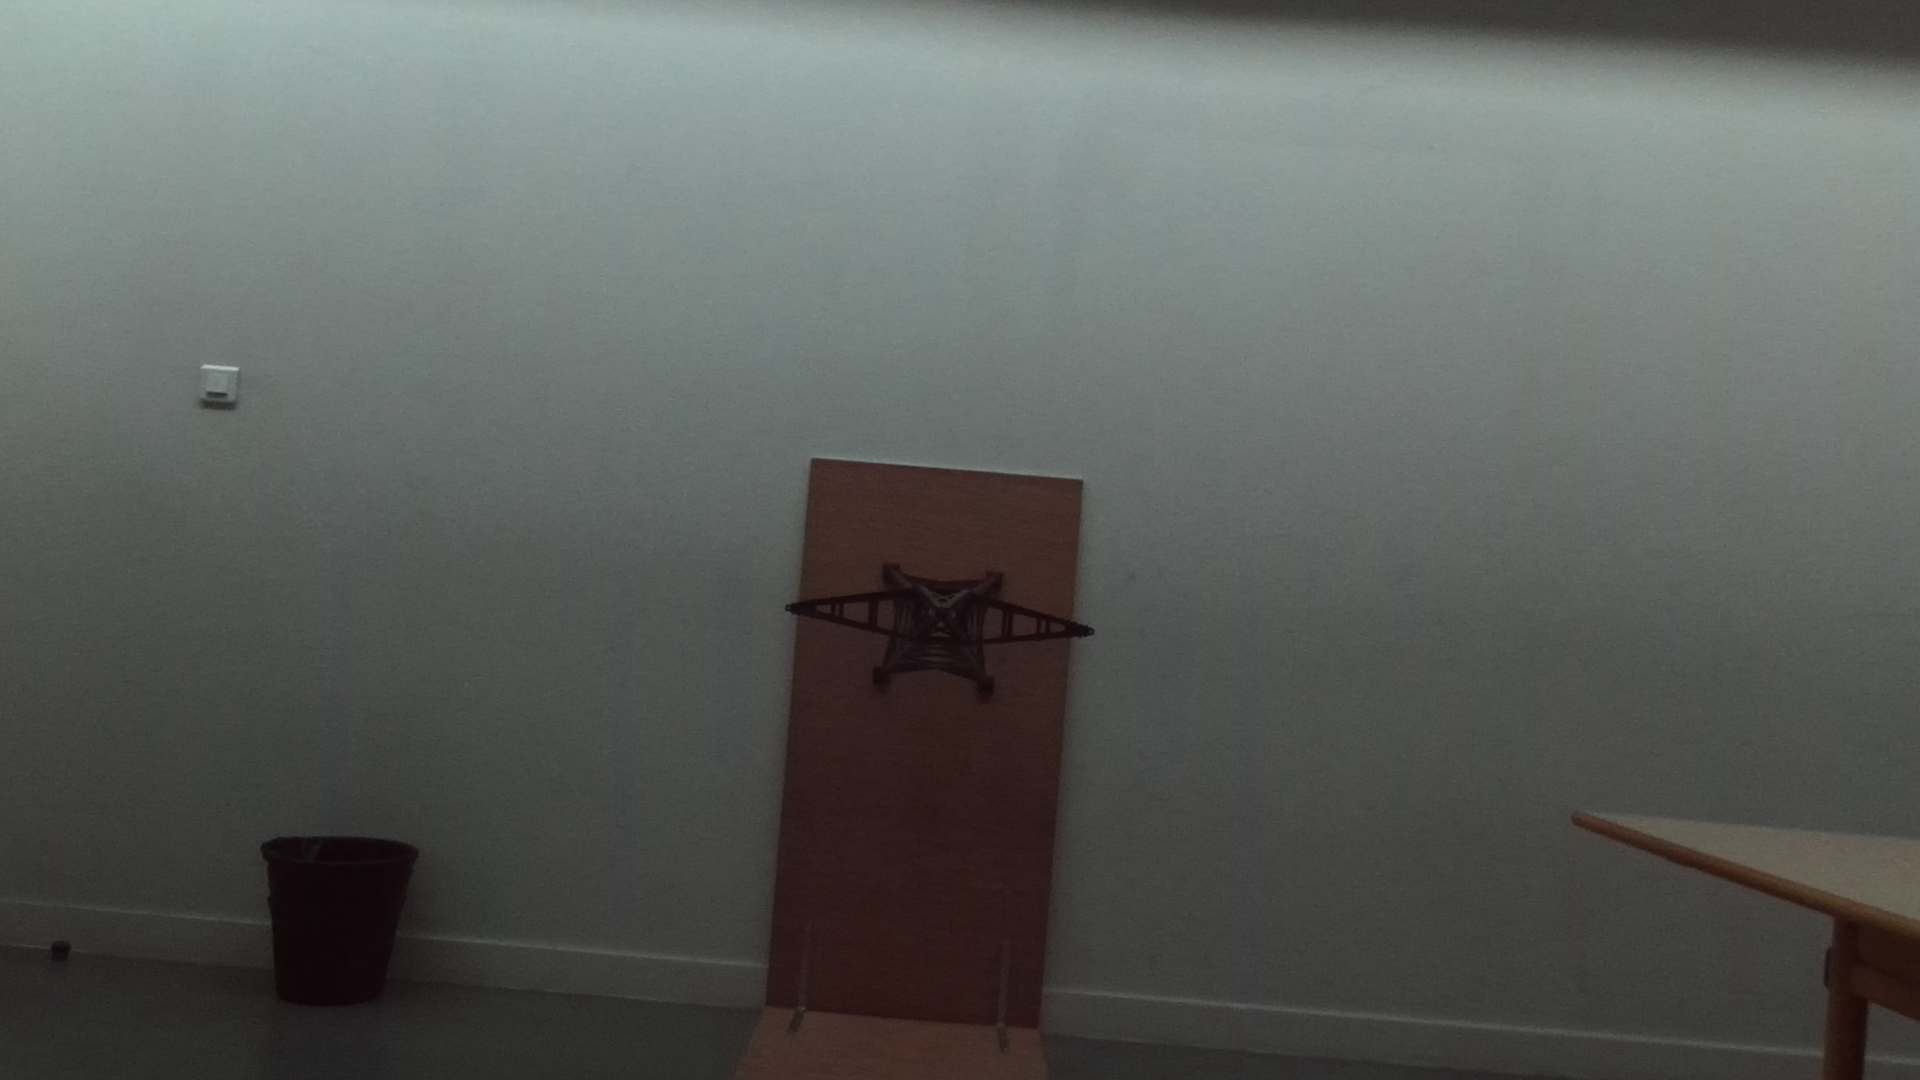pylon_phy: (783, 582, 1098, 645)
